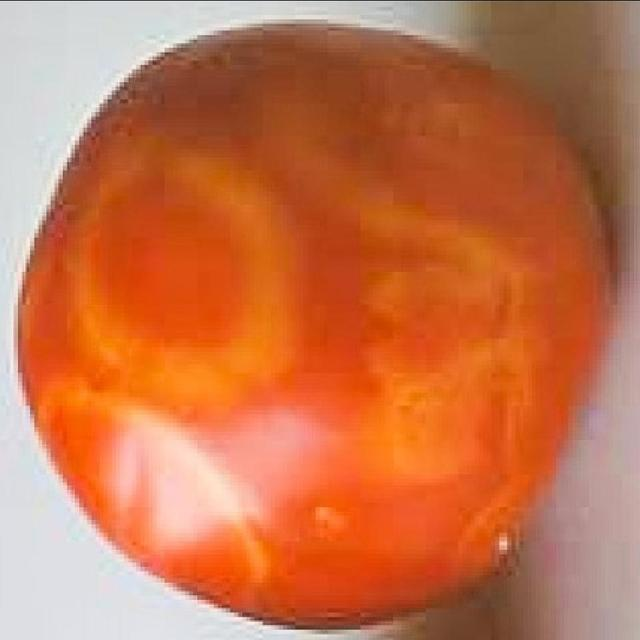Spotted wilt Virus Fruit: (7, 14, 406, 420)
